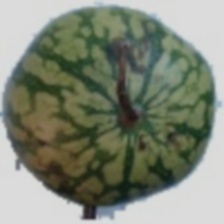watermelon: (0, 49, 198, 187)
